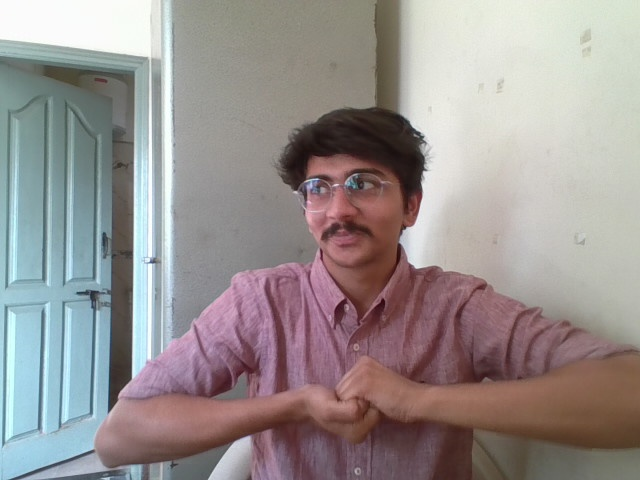thanks: (278, 346, 459, 462)
